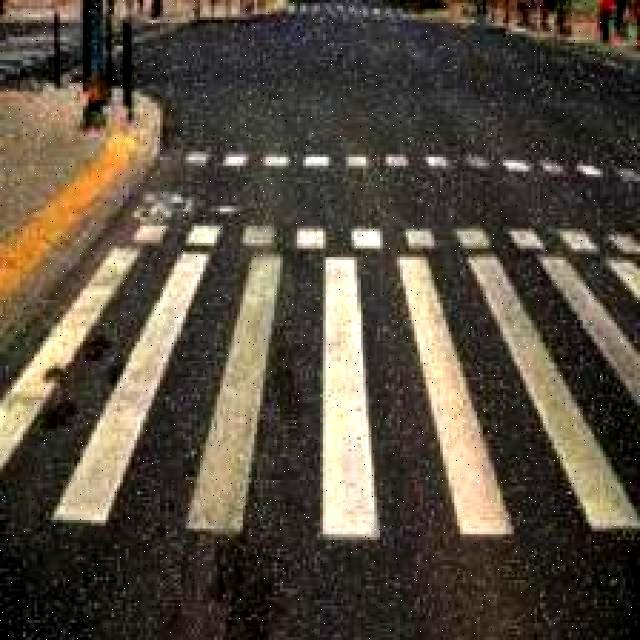crosswalk: (4, 207, 640, 557)
